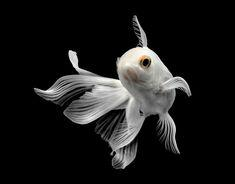goldfish: (41, 30, 202, 155)
